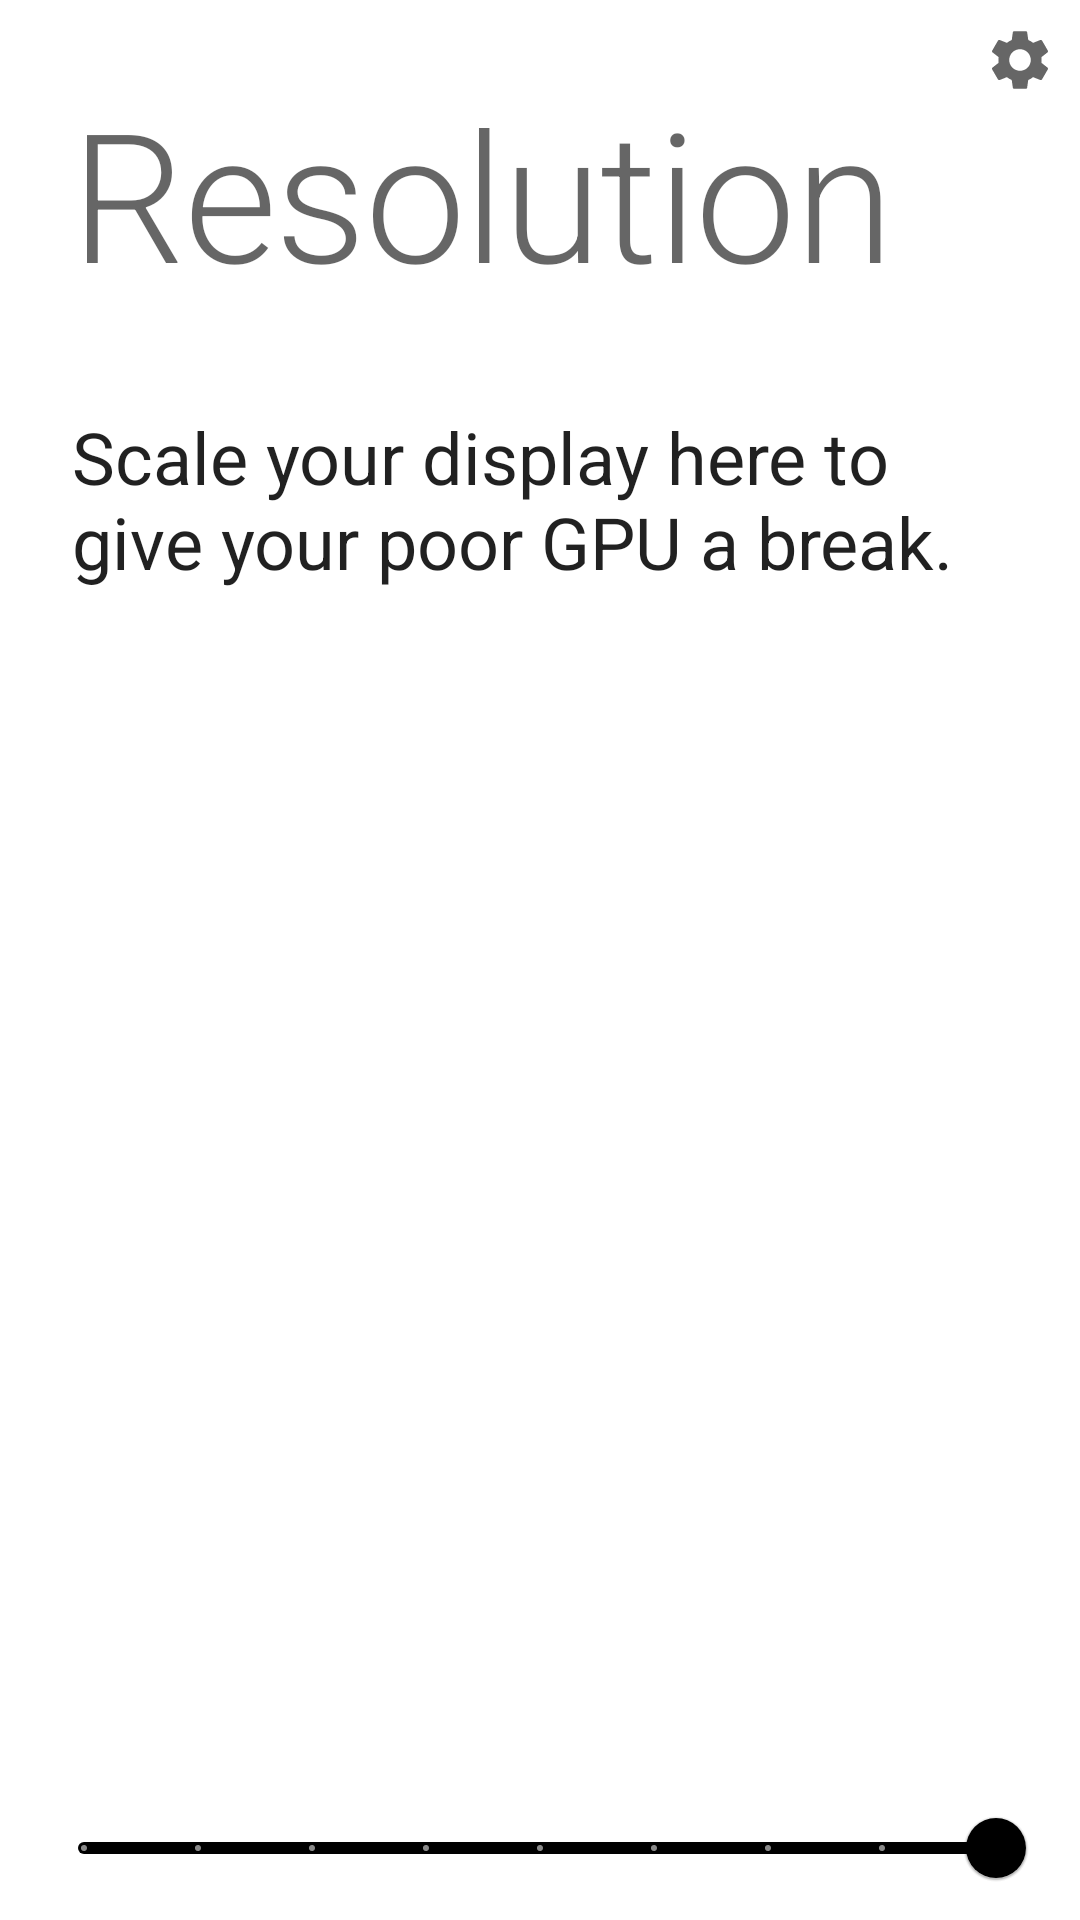

Screen size 1080w x 1920h. Icon name, then its center in pixels as point (x, y):
Settings: point (1020, 60)
